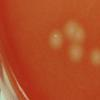white: (46, 30, 63, 49), (68, 44, 83, 63), (71, 25, 85, 44), (64, 21, 78, 39), (89, 47, 100, 68)
